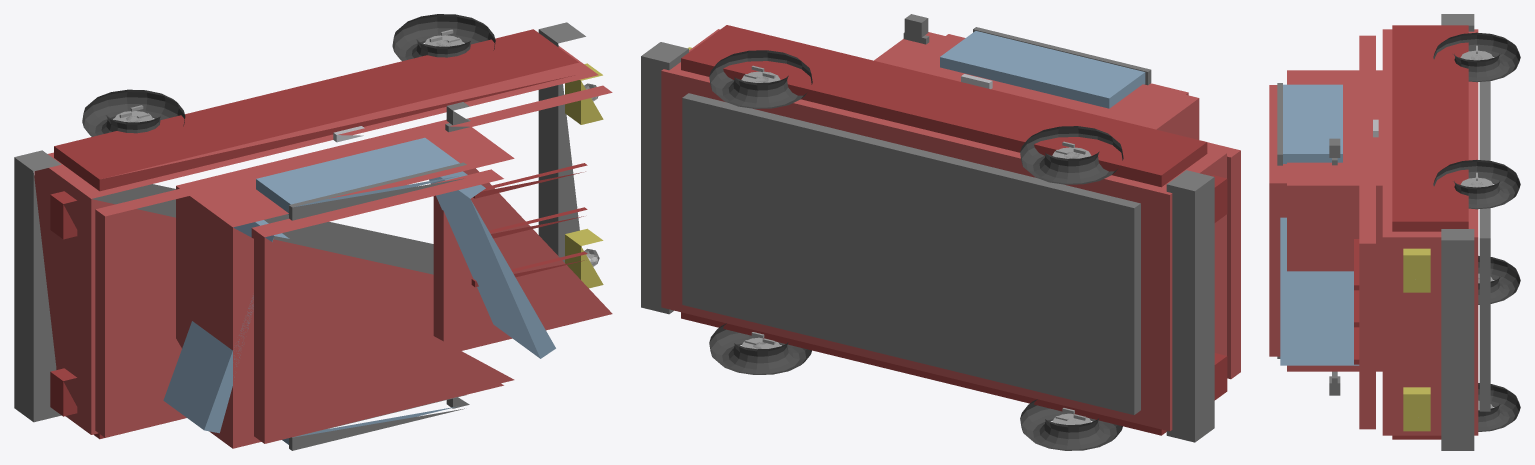
Rendered from vehicle.glb.
3 renders of one model, left to right at view 1: azimuth 30°, elevation 25°; view 2: azimuth 150°, elevation 25°; view 3: azimuth 270°, elevation 25°, orthographic. The views are drawn at different scales.
Visible parts, largest first — view 1: geometry_0; view 2: geometry_0; view 3: geometry_0.
Boxes of the visible parts, x1,y1,x2,y2 form: geometry_0: [14, 14, 612, 450]; geometry_0: [641, 14, 1240, 450]; geometry_0: [1269, 14, 1520, 450].
Size of the model in its own units: 1.96 by 1.02 by 0.92.
